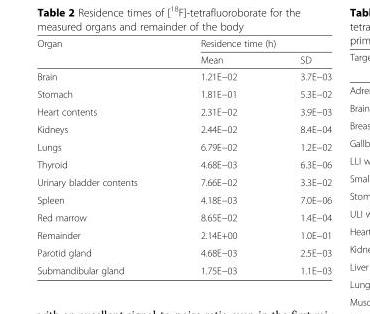table: (36, 37, 331, 275)
table column: (36, 37, 168, 275), (168, 37, 267, 275), (267, 37, 331, 275)
table column header: (36, 37, 331, 67)
table row: (36, 84, 331, 102), (36, 119, 331, 137), (36, 137, 331, 155), (36, 172, 331, 190), (36, 190, 331, 208), (36, 225, 331, 243), (36, 243, 331, 261), (36, 67, 331, 84), (36, 102, 331, 119), (36, 155, 331, 172), (36, 208, 331, 225), (36, 51, 331, 67), (36, 37, 331, 51), (36, 261, 331, 275)
table spanning cell: (36, 37, 168, 67), (168, 37, 331, 51)
